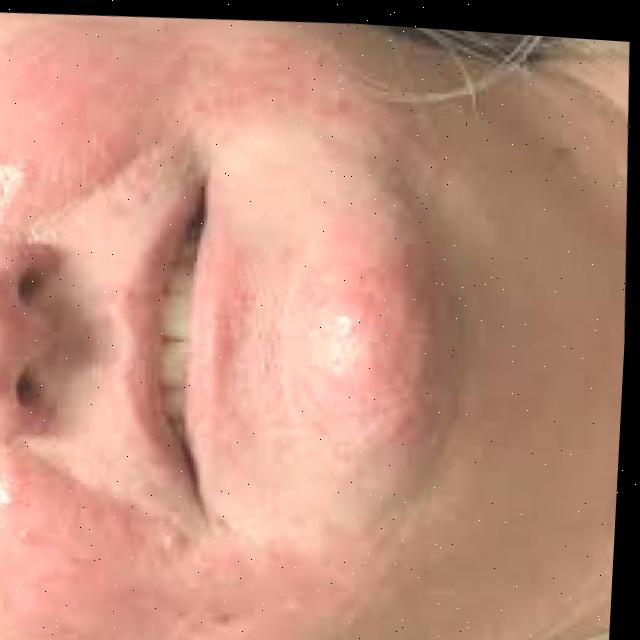Rosacea: (0, 0, 337, 250), (0, 428, 333, 640), (307, 189, 453, 458)
